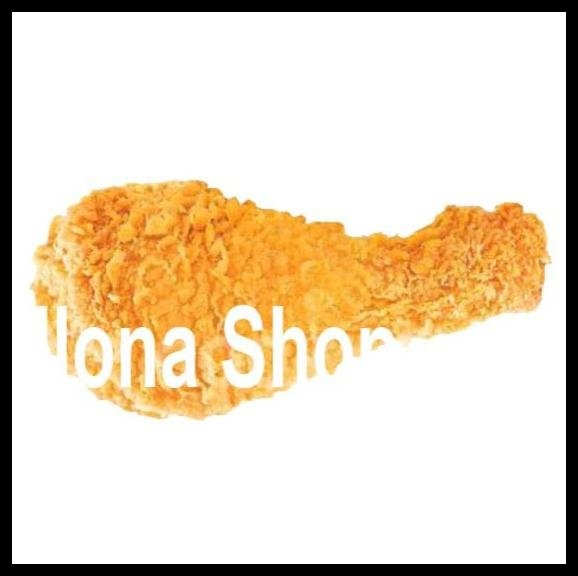ayam_goreng: (40, 152, 555, 415)
